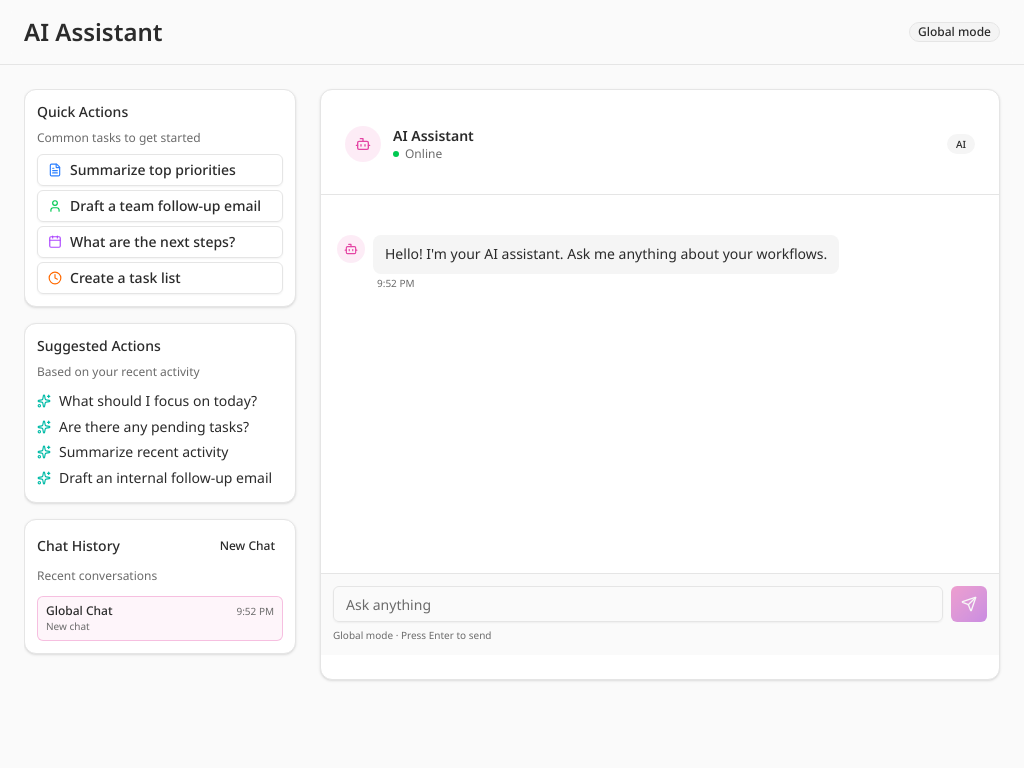
AIAssistantPage › sends a message and can approve a proposed action in global mode
Type "Summarize this workflow" into the field.
click(638, 604); type("Summarize this workflow")  # box [333, 586, 943, 622]
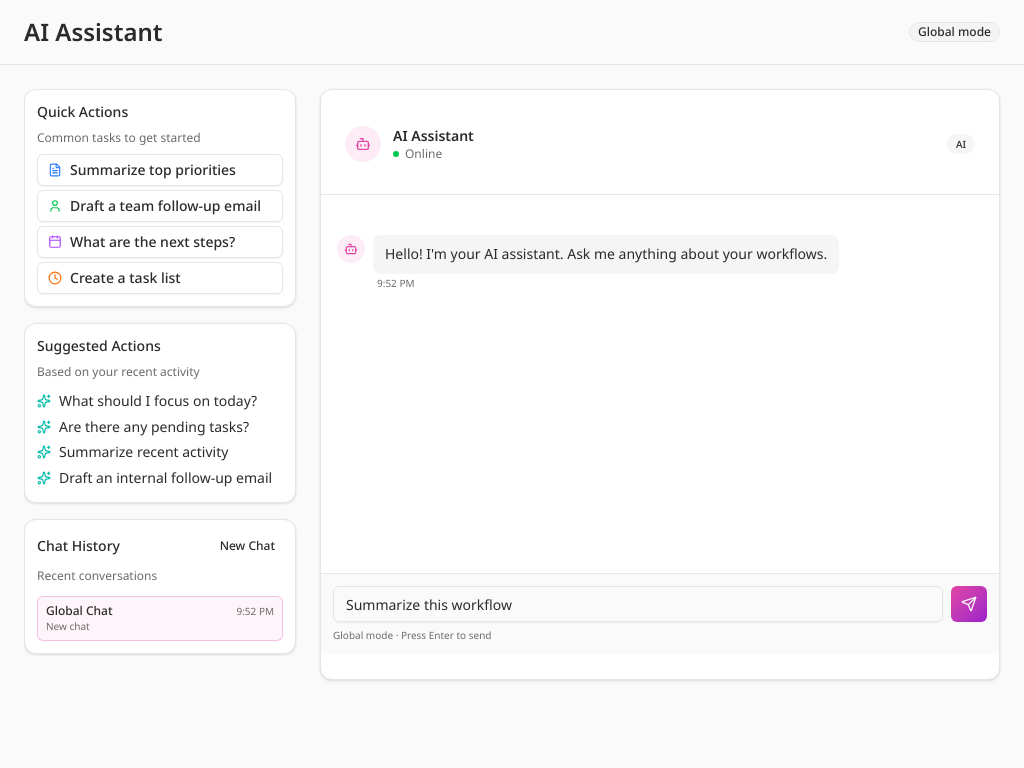
Press Enter in the field, box [333, 586, 943, 622]
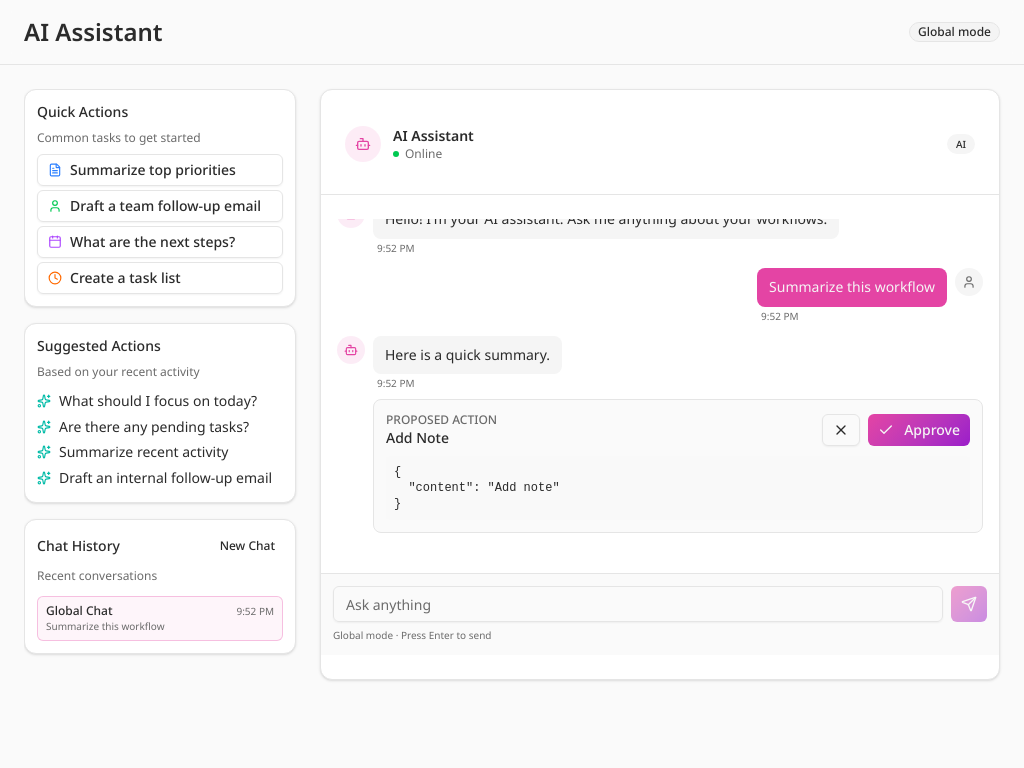
Check: the text "Here is a quick summary." is shown, box [385, 344, 550, 366]
Click the button "Approve".
click(919, 430)  # box [868, 414, 970, 446]
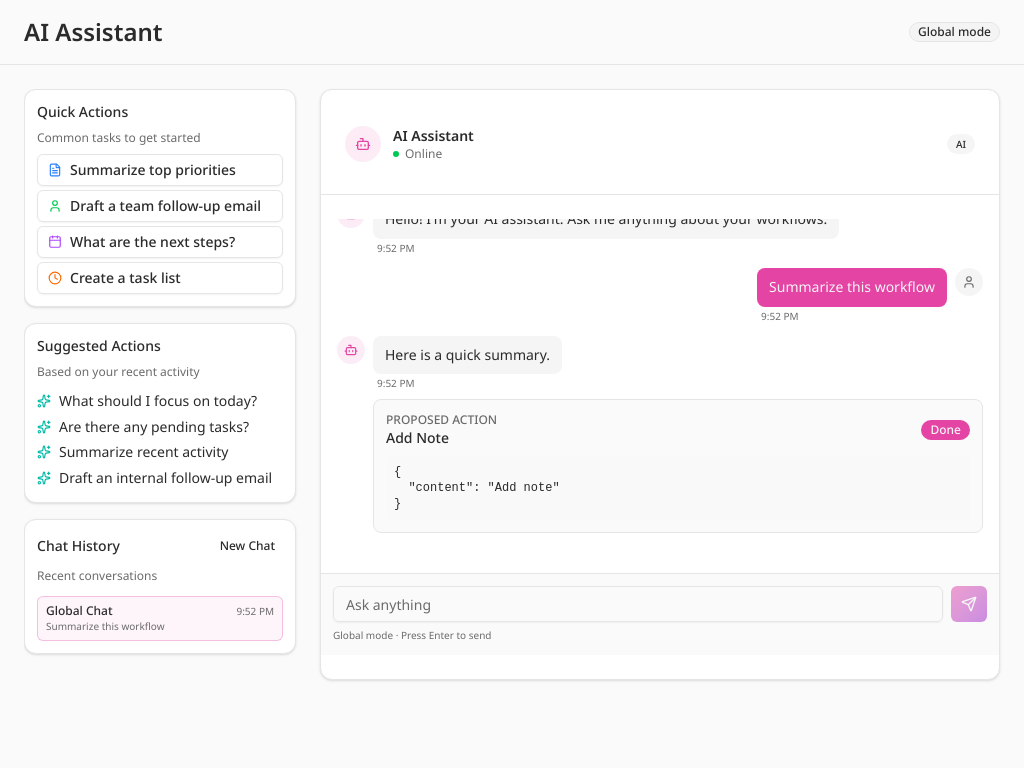
Check: the icon "Done" is shown, box [922, 420, 970, 440]
